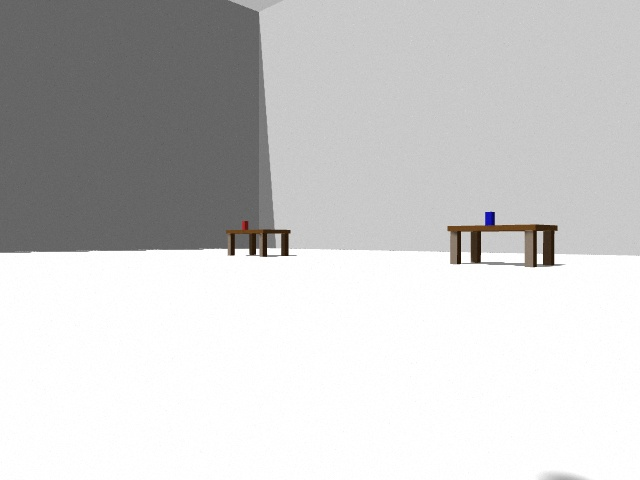blue_cube: (485, 212, 495, 226)
